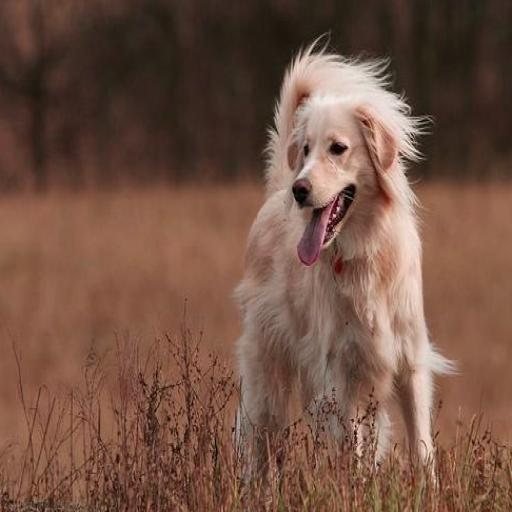dog_face: (272, 71, 402, 255)
